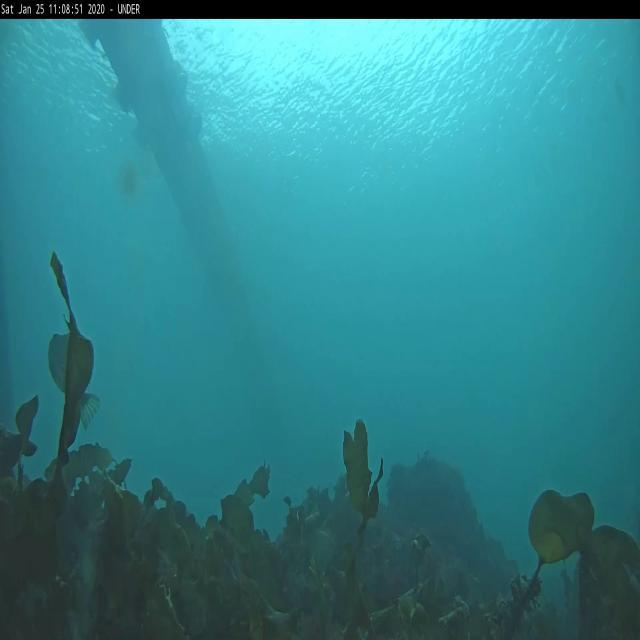fish: (45, 328, 99, 431)
